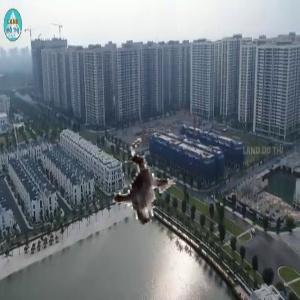drone: (95, 136, 207, 248)
